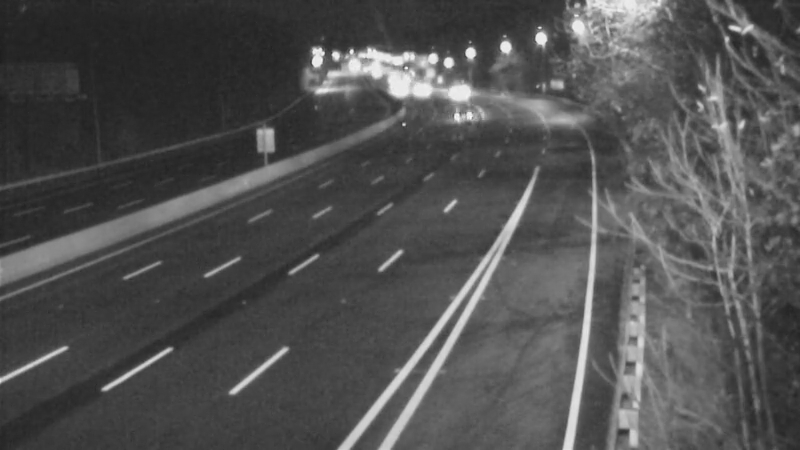vehicle: (432, 69, 482, 119), (398, 66, 448, 116), (437, 89, 487, 139)
